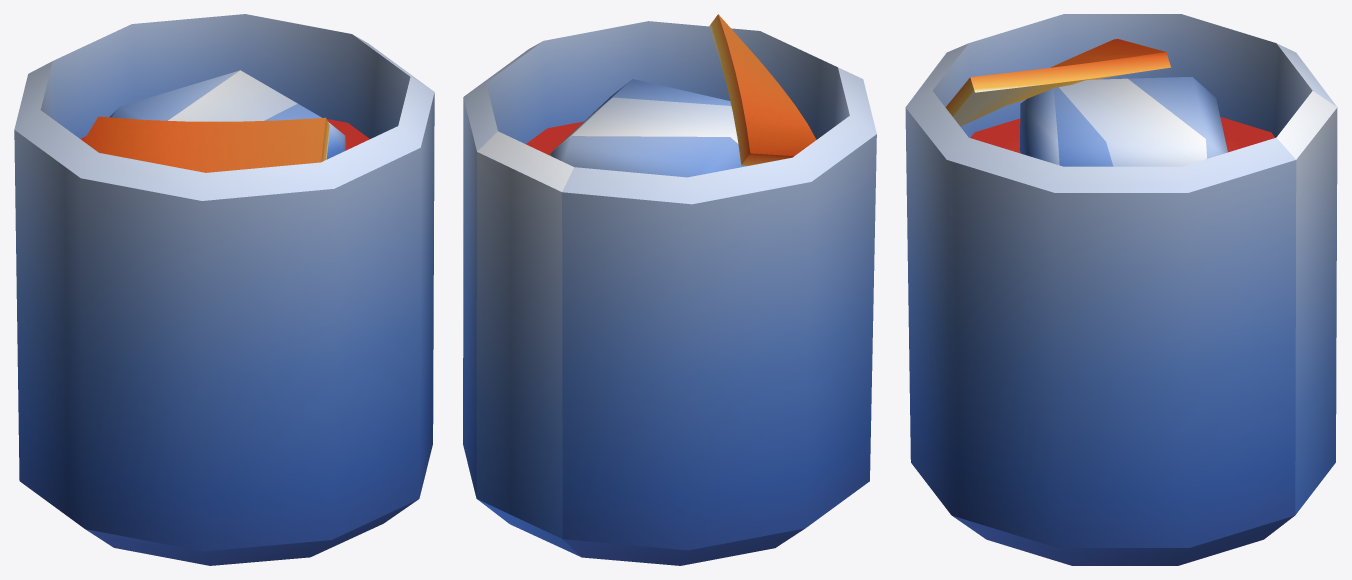
Rendered from m_Negroni01.fbx.
3 renders of one model, left to right at view 1: azimuth 30°, elevation 25°; view 2: azimuth 150°, elevation 25°; view 3: azimuth 270°, elevation 25°, orthographic. The views are drawn at different scales.
Visible parts, largest first — view 1: m_Negroni01; view 2: m_Negroni01; view 3: m_Negroni01.
Boxes of the visible parts, x1,y1,x2,y2 form: m_Negroni01: (14,14,434,565); m_Negroni01: (463,14,876,565); m_Negroni01: (905,14,1337,565).
Bounding box in the file's own units: 11.22 × 12.96 × 11.8.
